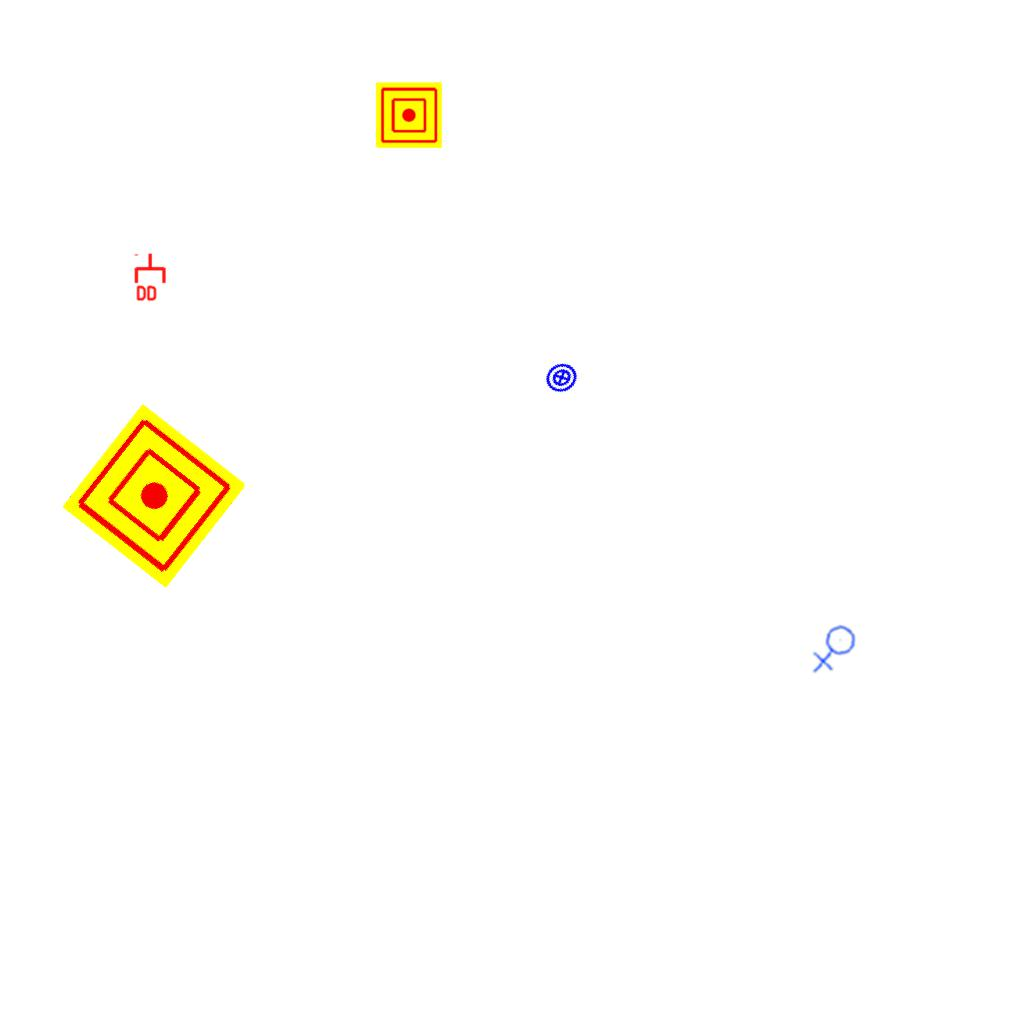Datenanschluss_zweifach: (134, 252, 168, 303)
Elektroanschluss_allgemein_230V_Geraeteanschlussdose_230V: (808, 623, 863, 676)
NAM-Nichtautomatischer_Melder: (61, 403, 247, 589), (376, 82, 442, 148)
Taster_beleuchtet: (539, 355, 584, 400)
